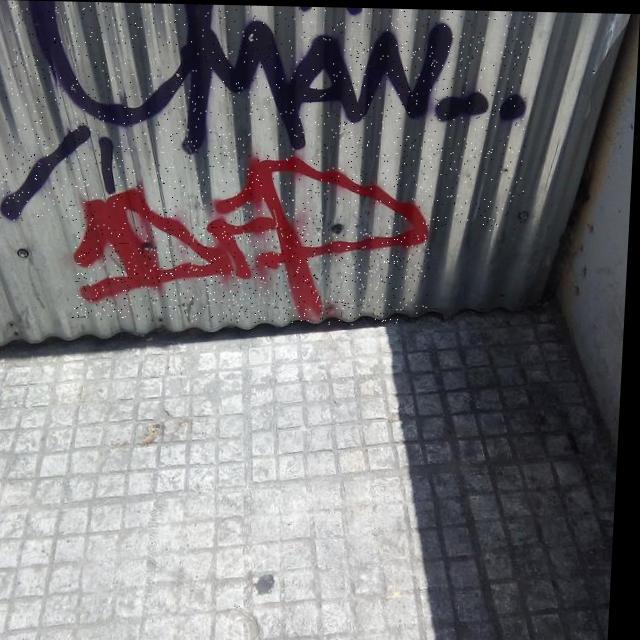-: (2, 0, 533, 230), (75, 150, 437, 324)
